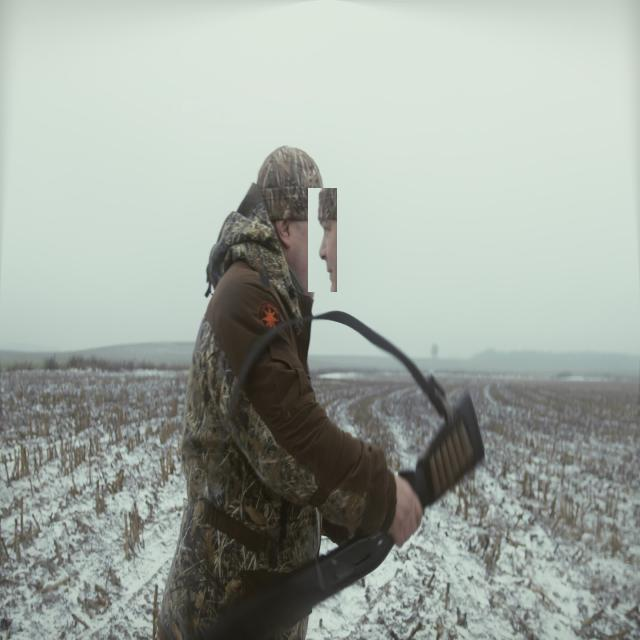poacher: (256, 182, 394, 630)
weapon: (308, 188, 337, 292)
